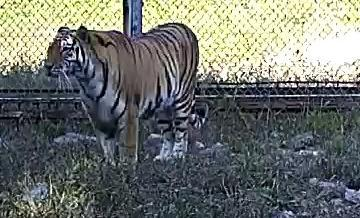tiger: (45, 23, 207, 162)
